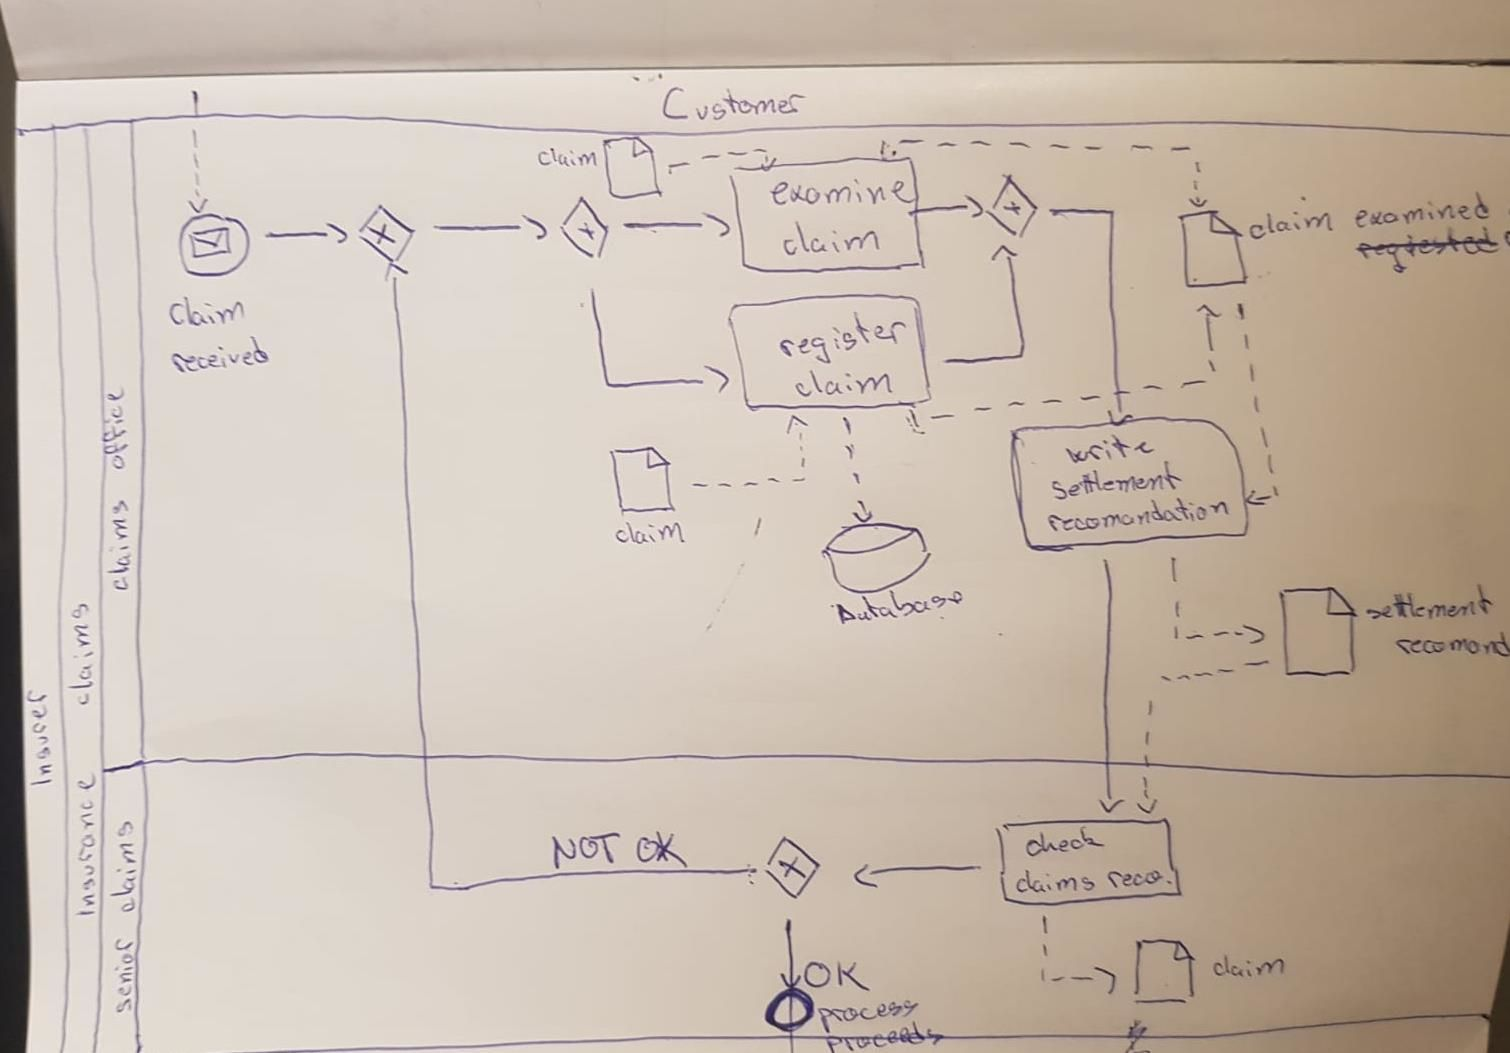Customer: (657, 80, 811, 130)
Database: (830, 582, 970, 632)
Insurance: (68, 769, 104, 925)
Insurer: (23, 682, 59, 791)
NOT: (545, 827, 628, 877)
OK: (629, 825, 694, 877), (797, 955, 877, 997)
check: (1020, 819, 1110, 861)
claim: (777, 216, 887, 263), (788, 364, 901, 403), (1242, 203, 1341, 245), (162, 291, 251, 335), (1205, 949, 1292, 985), (607, 515, 692, 552), (531, 145, 604, 173)
claims: (61, 596, 101, 713), (104, 816, 143, 920), (102, 494, 138, 598), (1011, 864, 1098, 899)
examine: (765, 174, 923, 213)
examined: (1351, 185, 1497, 236)
office: (98, 383, 135, 476)
proceeds: (819, 1016, 951, 1052)
process: (811, 994, 925, 1040)
received: (164, 331, 275, 381)
reco.: (1102, 861, 1177, 894)
recomand: (1390, 626, 1509, 664)
recomandation: (1041, 493, 1235, 538)
register: (775, 305, 913, 370)
senior: (107, 933, 141, 1021)
settlement: (1044, 457, 1189, 507), (1360, 579, 1501, 627)
write: (1060, 430, 1162, 470)
